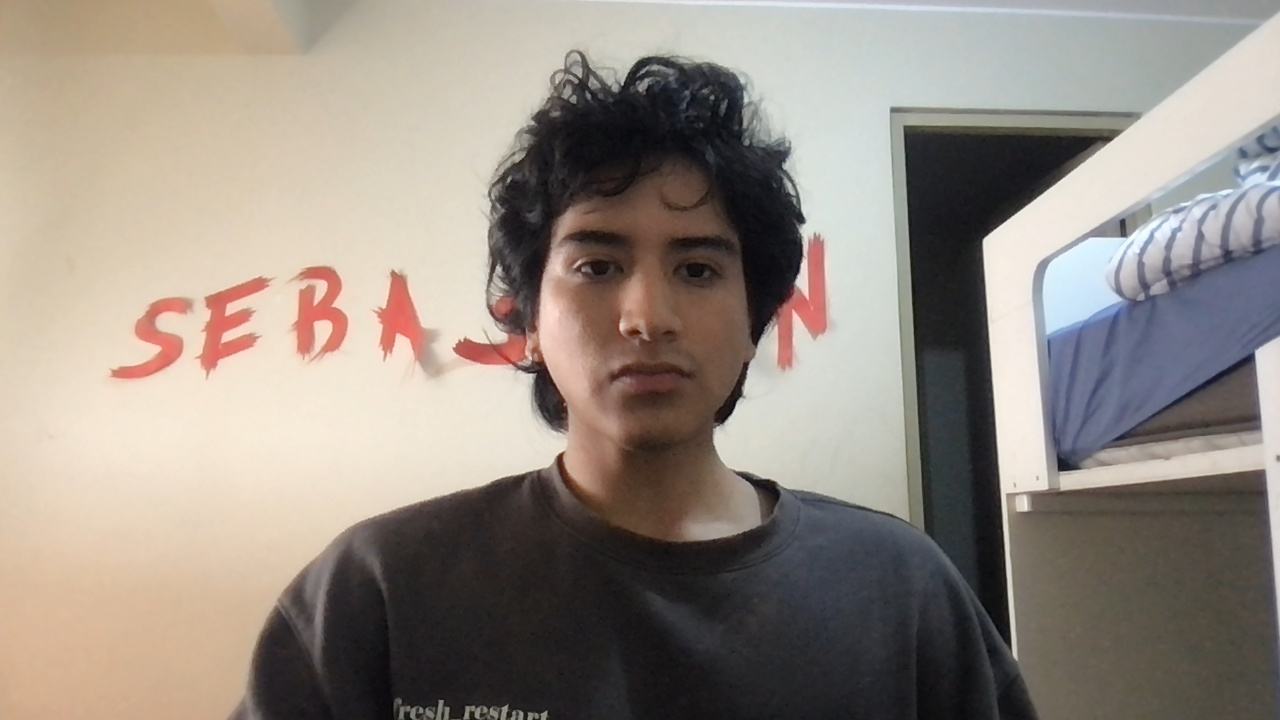face_azariel: (521, 150, 758, 449)
